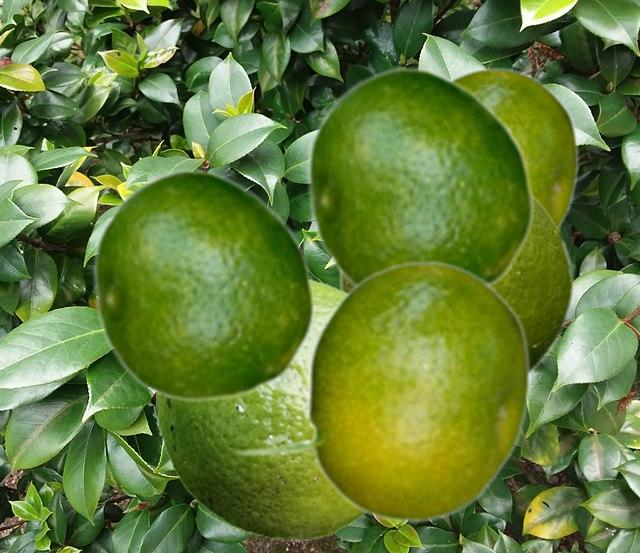calamansi: (232, 259, 530, 522), (156, 277, 367, 539), (91, 167, 316, 402), (305, 65, 535, 285), (338, 195, 574, 374), (450, 66, 578, 228)
